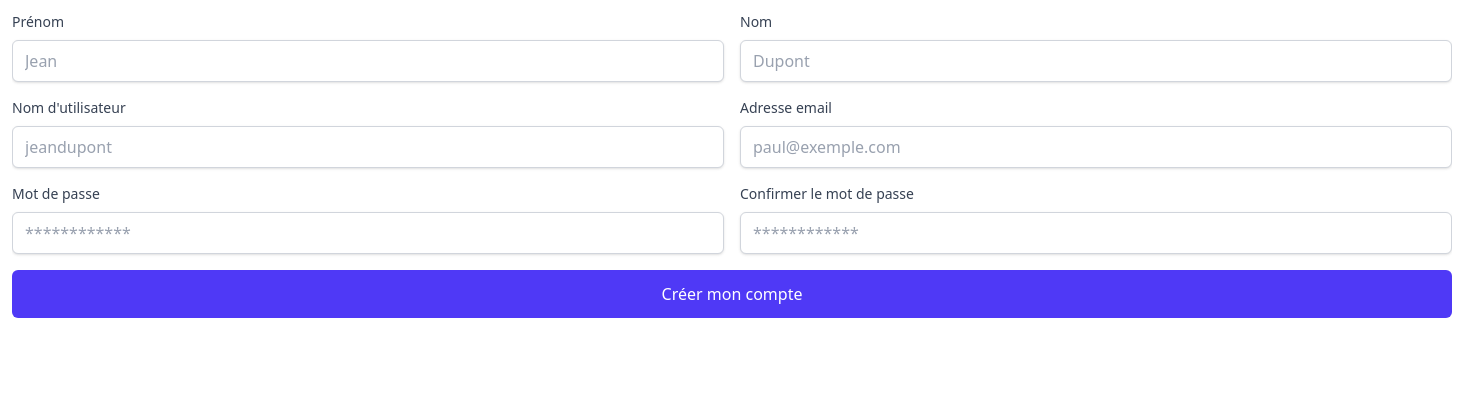
Scenario: RegisterForm › should show password too short error
Step 1. Type "Short1!" into the password field labelled "Mot de passe" → {"x": 368, "y": 233}, box [12,212,724,254]
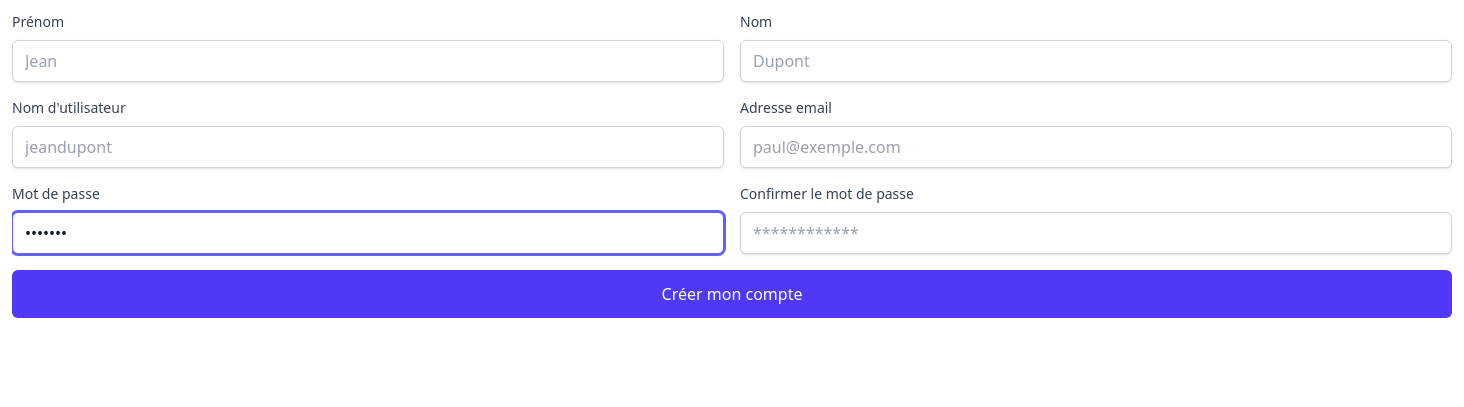
Step 2. Click the button "Créer mon compte" → {"x": 732, "y": 294}, box [12,270,1452,318]
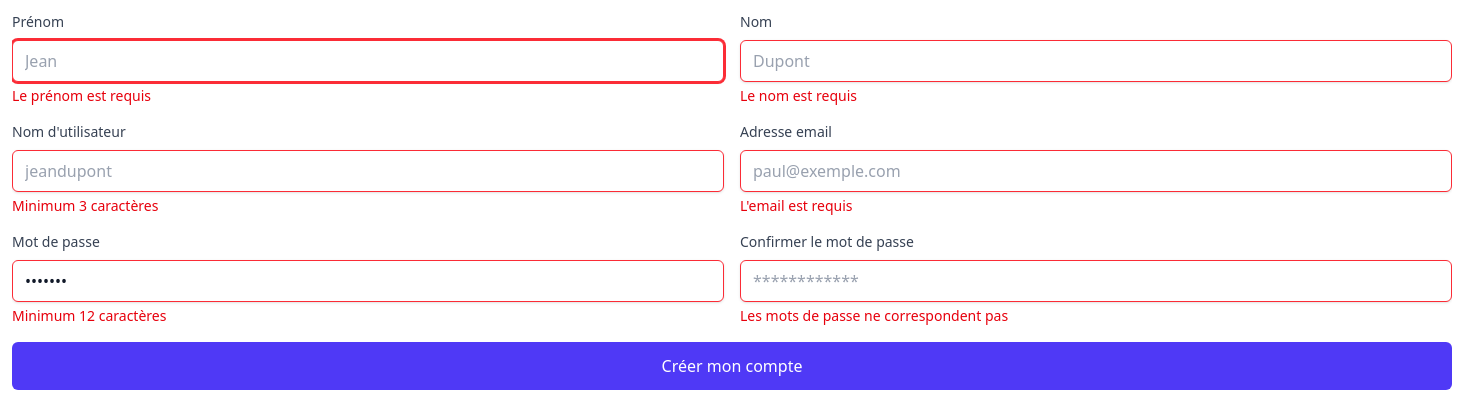
Check: the text "Minimum 12 caractères" is shown, box [12,306,166,325]
